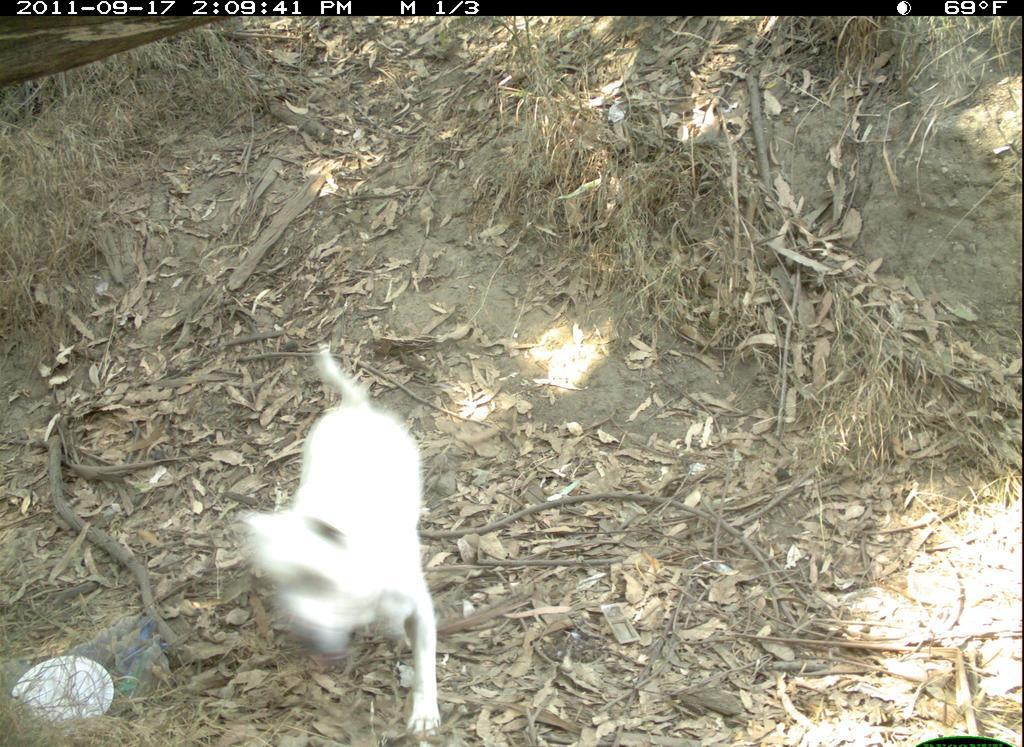dog: (240, 329, 464, 737)
